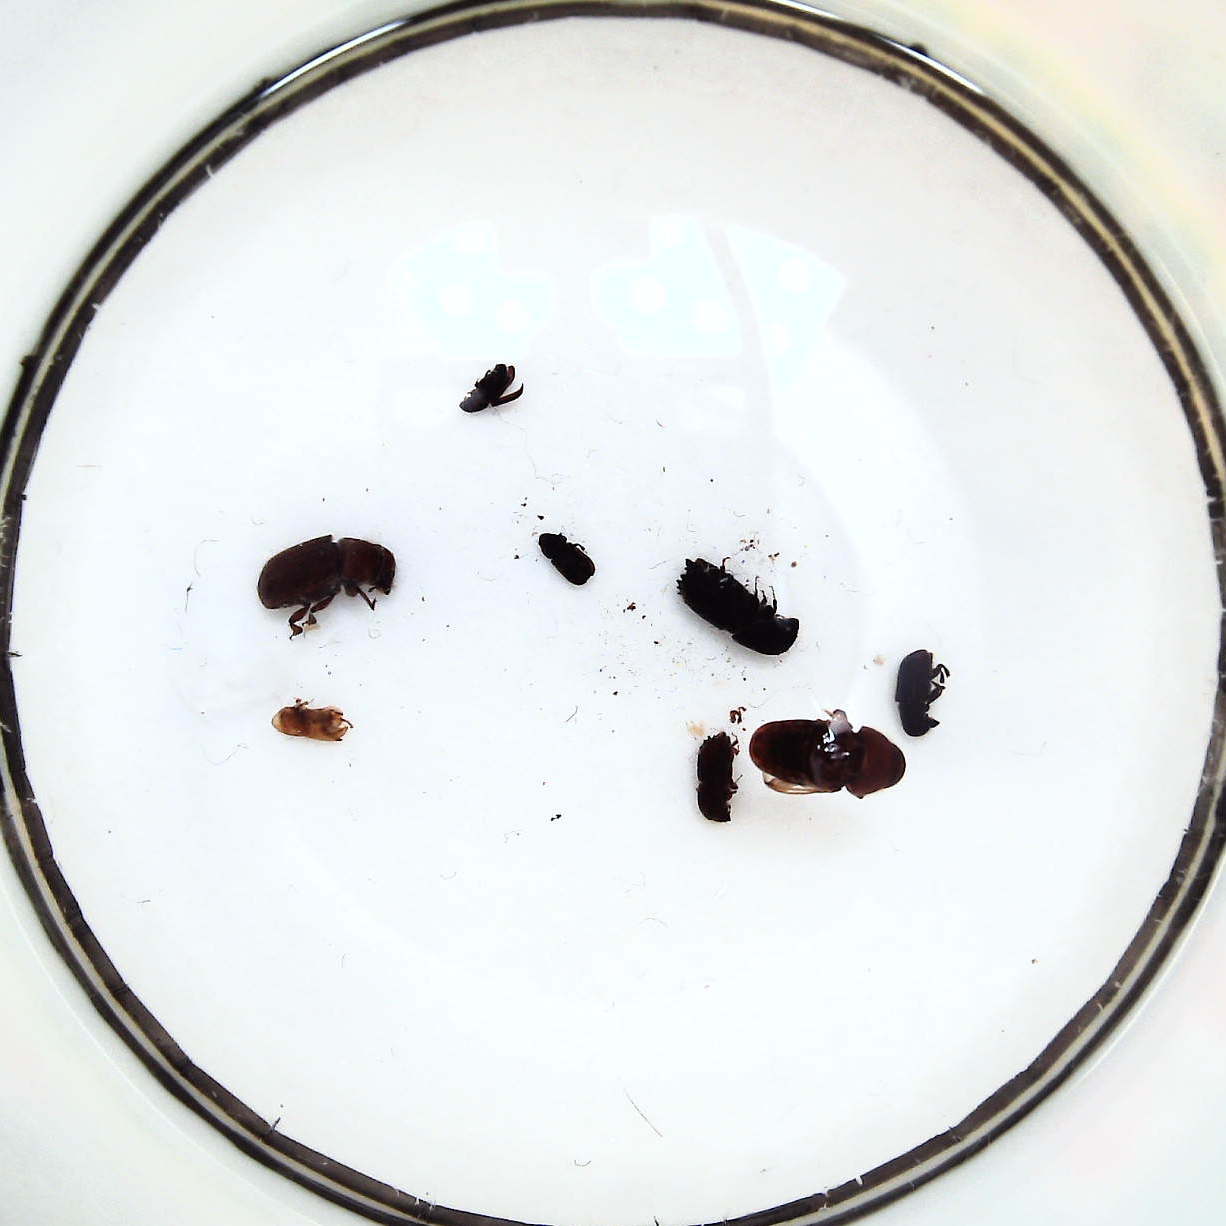Boerner: (676, 556, 797, 655)
Leconte: (749, 720, 906, 800), (256, 534, 397, 611)
acuminatus: (460, 364, 523, 414), (538, 533, 595, 585)
armandi: (895, 650, 941, 736)
coleoptera: (271, 703, 348, 742)
linnaeus: (696, 730, 736, 820)
